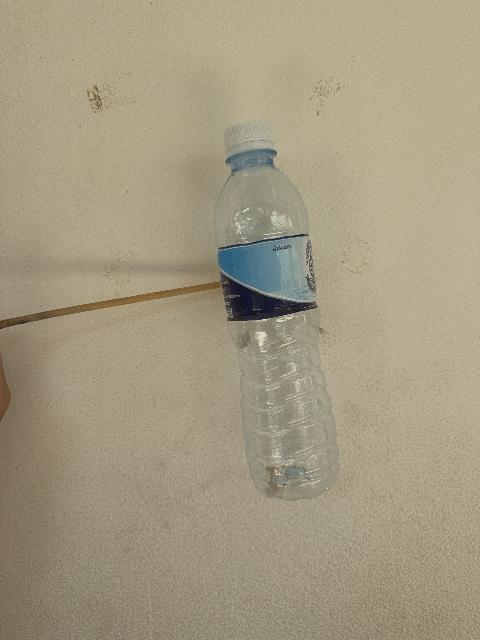bottle: (215, 122, 338, 499)
